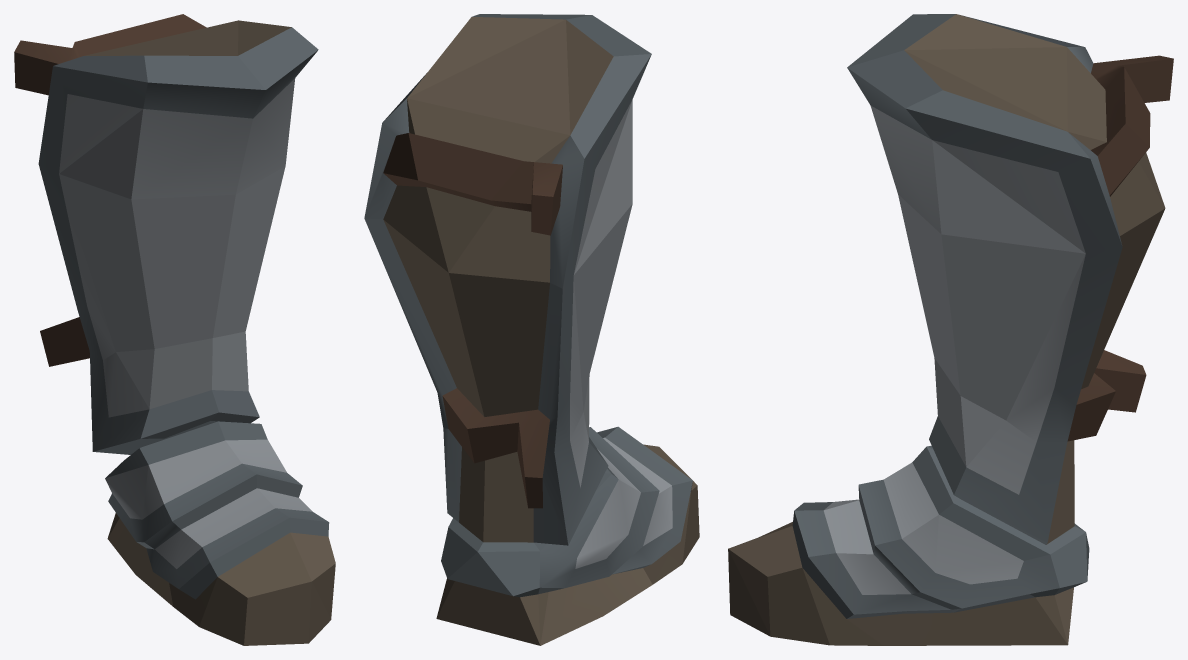
The model's file is Chr_LegRight_Female_16_Static.fbx.
3 views of the same model, side by side, from view 1: azimuth 30°, elevation 25°; view 2: azimuth 150°, elevation 25°; view 3: azimuth 270°, elevation 25° (orthographic). The views are drawn at different scales.
Visible parts, largest first — view 1: Chr_LegRight_Female_16_Static; view 2: Chr_LegRight_Female_16_Static; view 3: Chr_LegRight_Female_16_Static.
Boxes of the visible parts, x1,y1,x2,y2 form: Chr_LegRight_Female_16_Static: (14, 14, 335, 645); Chr_LegRight_Female_16_Static: (364, 14, 699, 645); Chr_LegRight_Female_16_Static: (728, 14, 1173, 645).
Size of the model in its own units: 0.1582 by 0.4043 by 0.2867.
